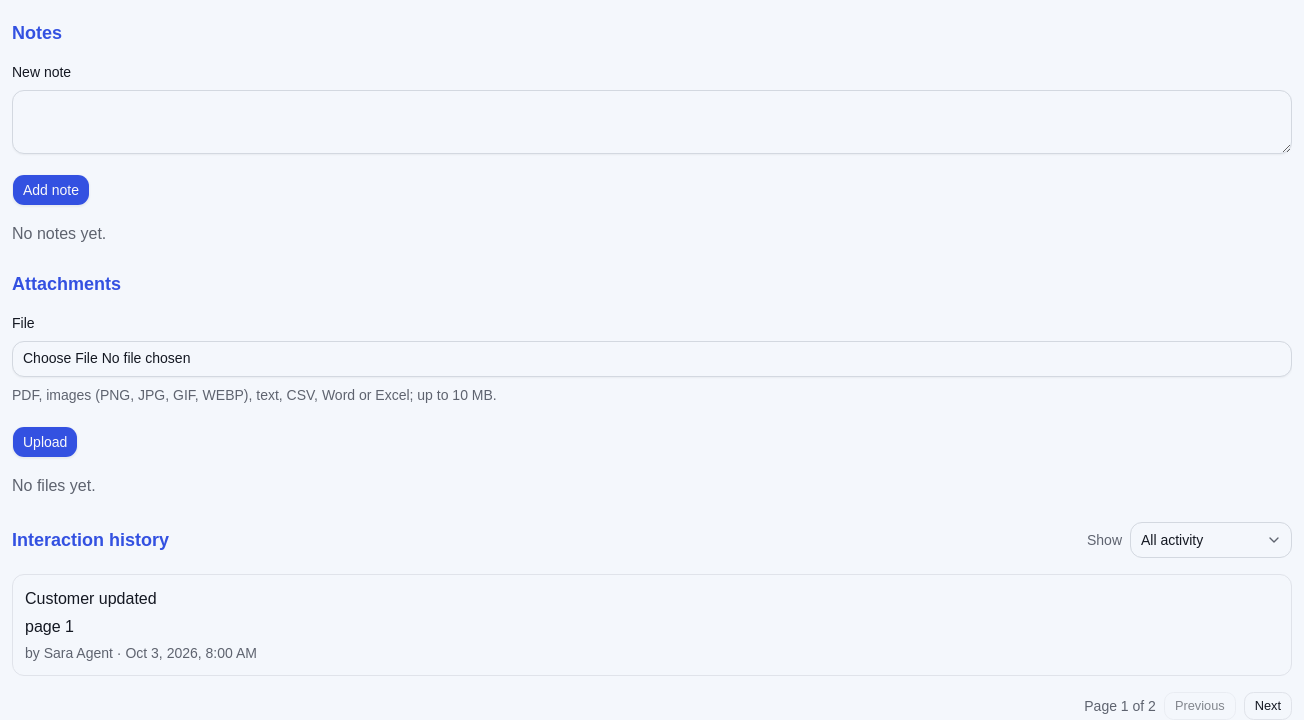
CustomerDetailsPage › pages through the timeline
The image size is (1304, 720).
(page scrolled)
Expected: the text "Page 1 of 2" is shown, x1=1084 y1=696 x2=1156 y2=716
Expected: the button "Previous" is disabled, x1=1164 y1=692 x2=1236 y2=719
Click the button "Next": (1268, 706) x1=1244 y1=692 x2=1292 y2=719
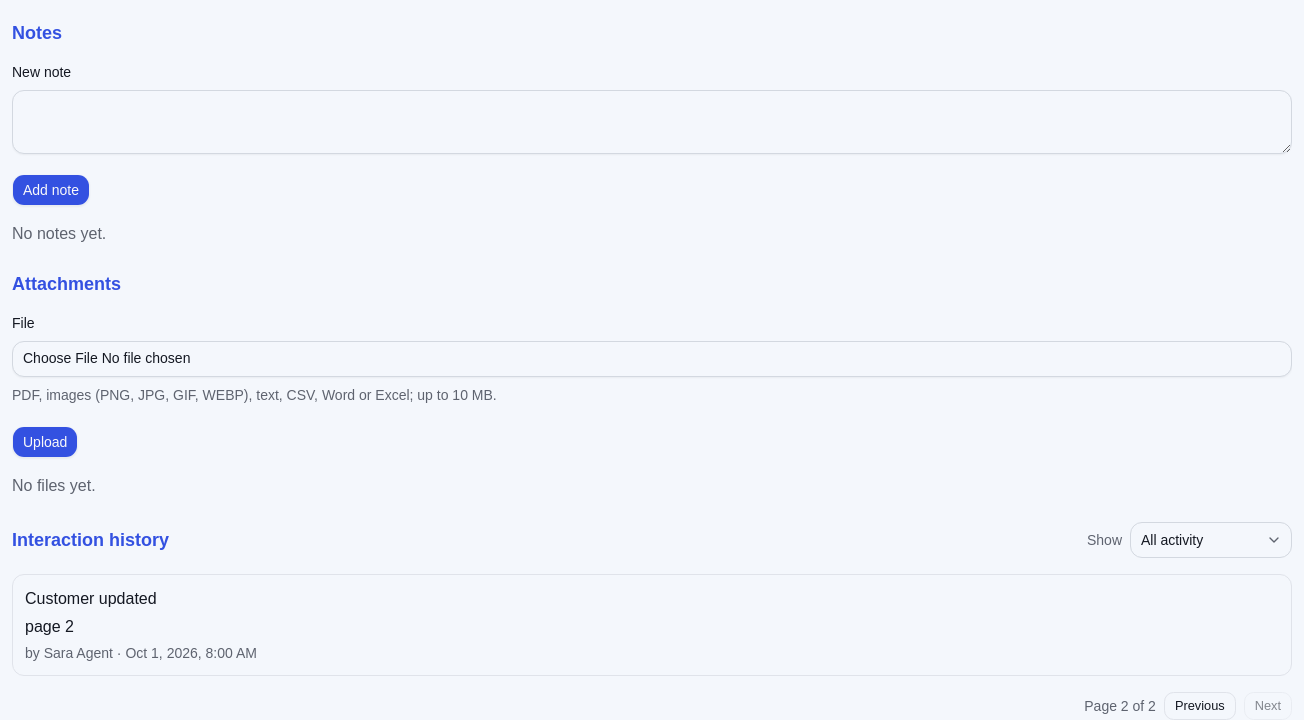
Now the text "page 2" is shown, box x1=25 y1=618 x2=74 y2=635
Now the text "Page 2 of 2" is shown, box x1=1084 y1=696 x2=1156 y2=716
Now the button "Next" is disabled, box x1=1244 y1=692 x2=1292 y2=719
